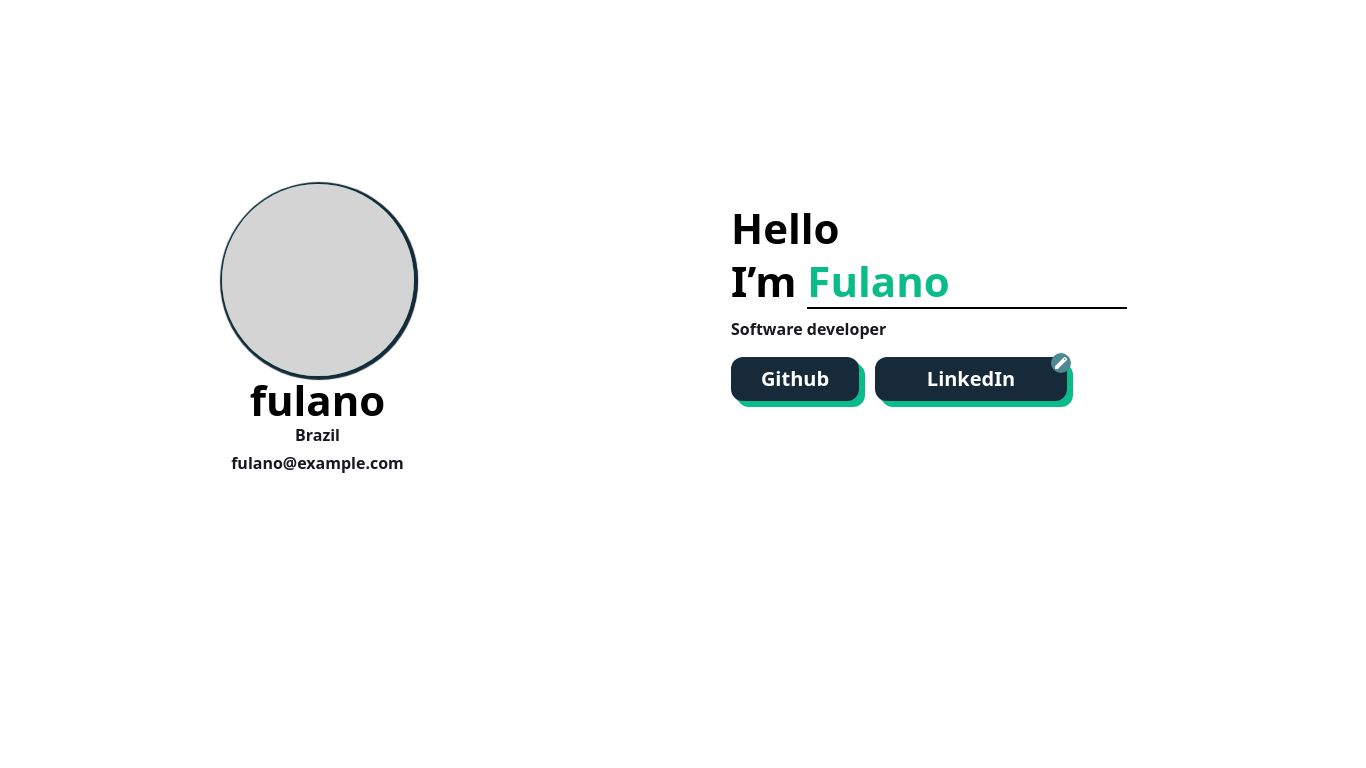
Test: Profile Component › opens the LinkModal when LinkedIn button is clicked in edit mode
Click the button "LinkedIn" at (971, 379), box left=875, top=357, right=1067, bottom=401
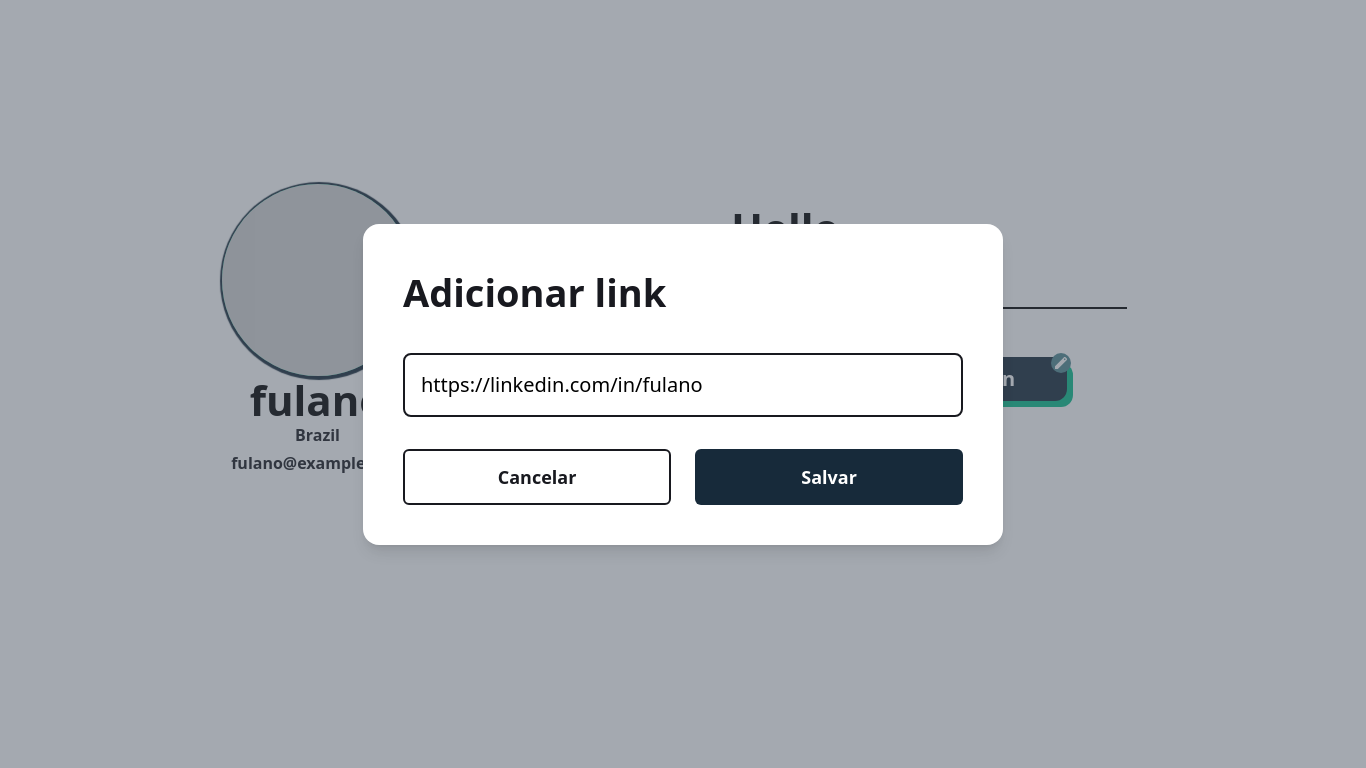
Expected: the heading "Adicionar link" is shown, left=403, top=266, right=666, bottom=318
Expected: the field with placeholder "Digite a URL" holds "https://linkedin.com/in/fulano", left=403, top=352, right=963, bottom=416
